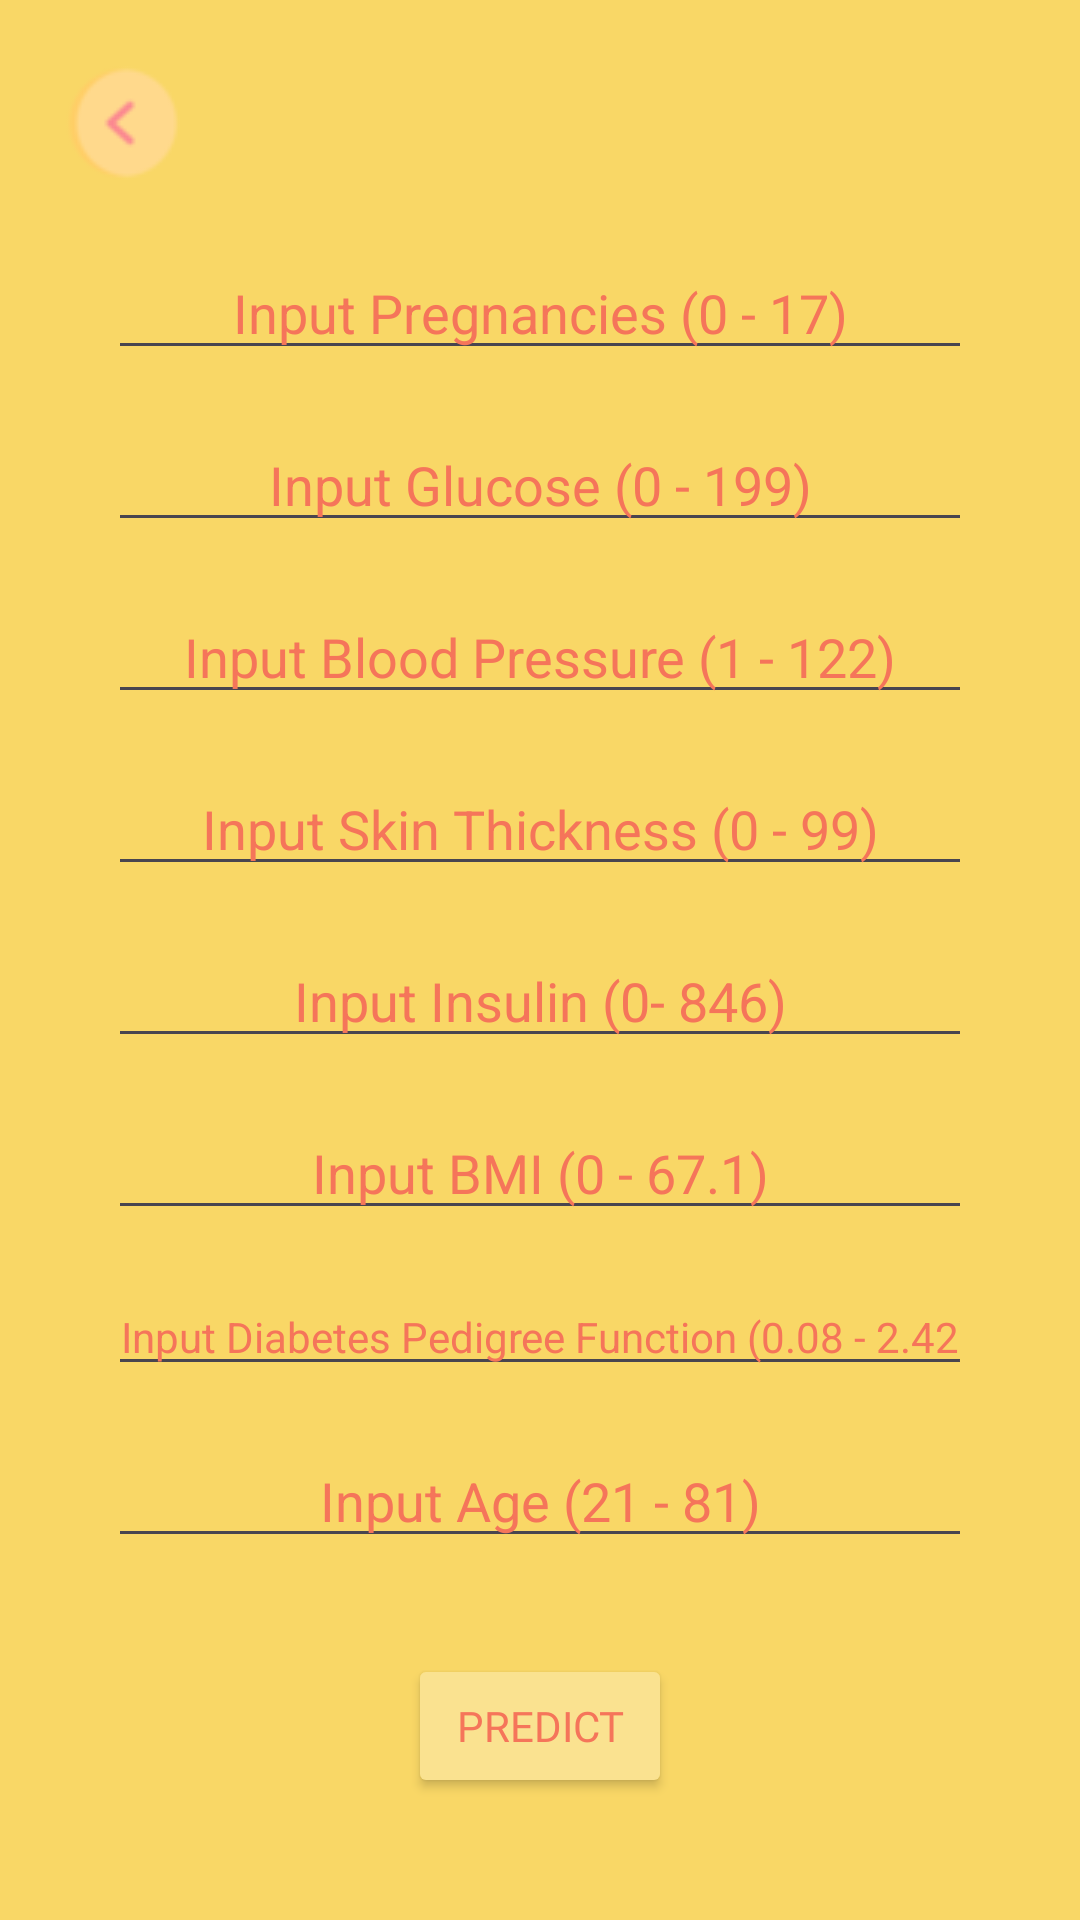

Icons on this 1080 x 1920 Android screen, each with its box as (x1, y1, x2, y2):
Back: (78, 70, 176, 176)
